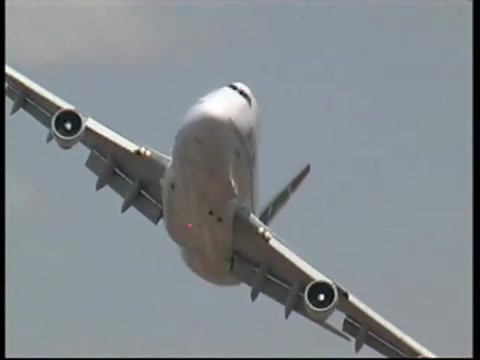aeroplane: (7, 65, 442, 359)
